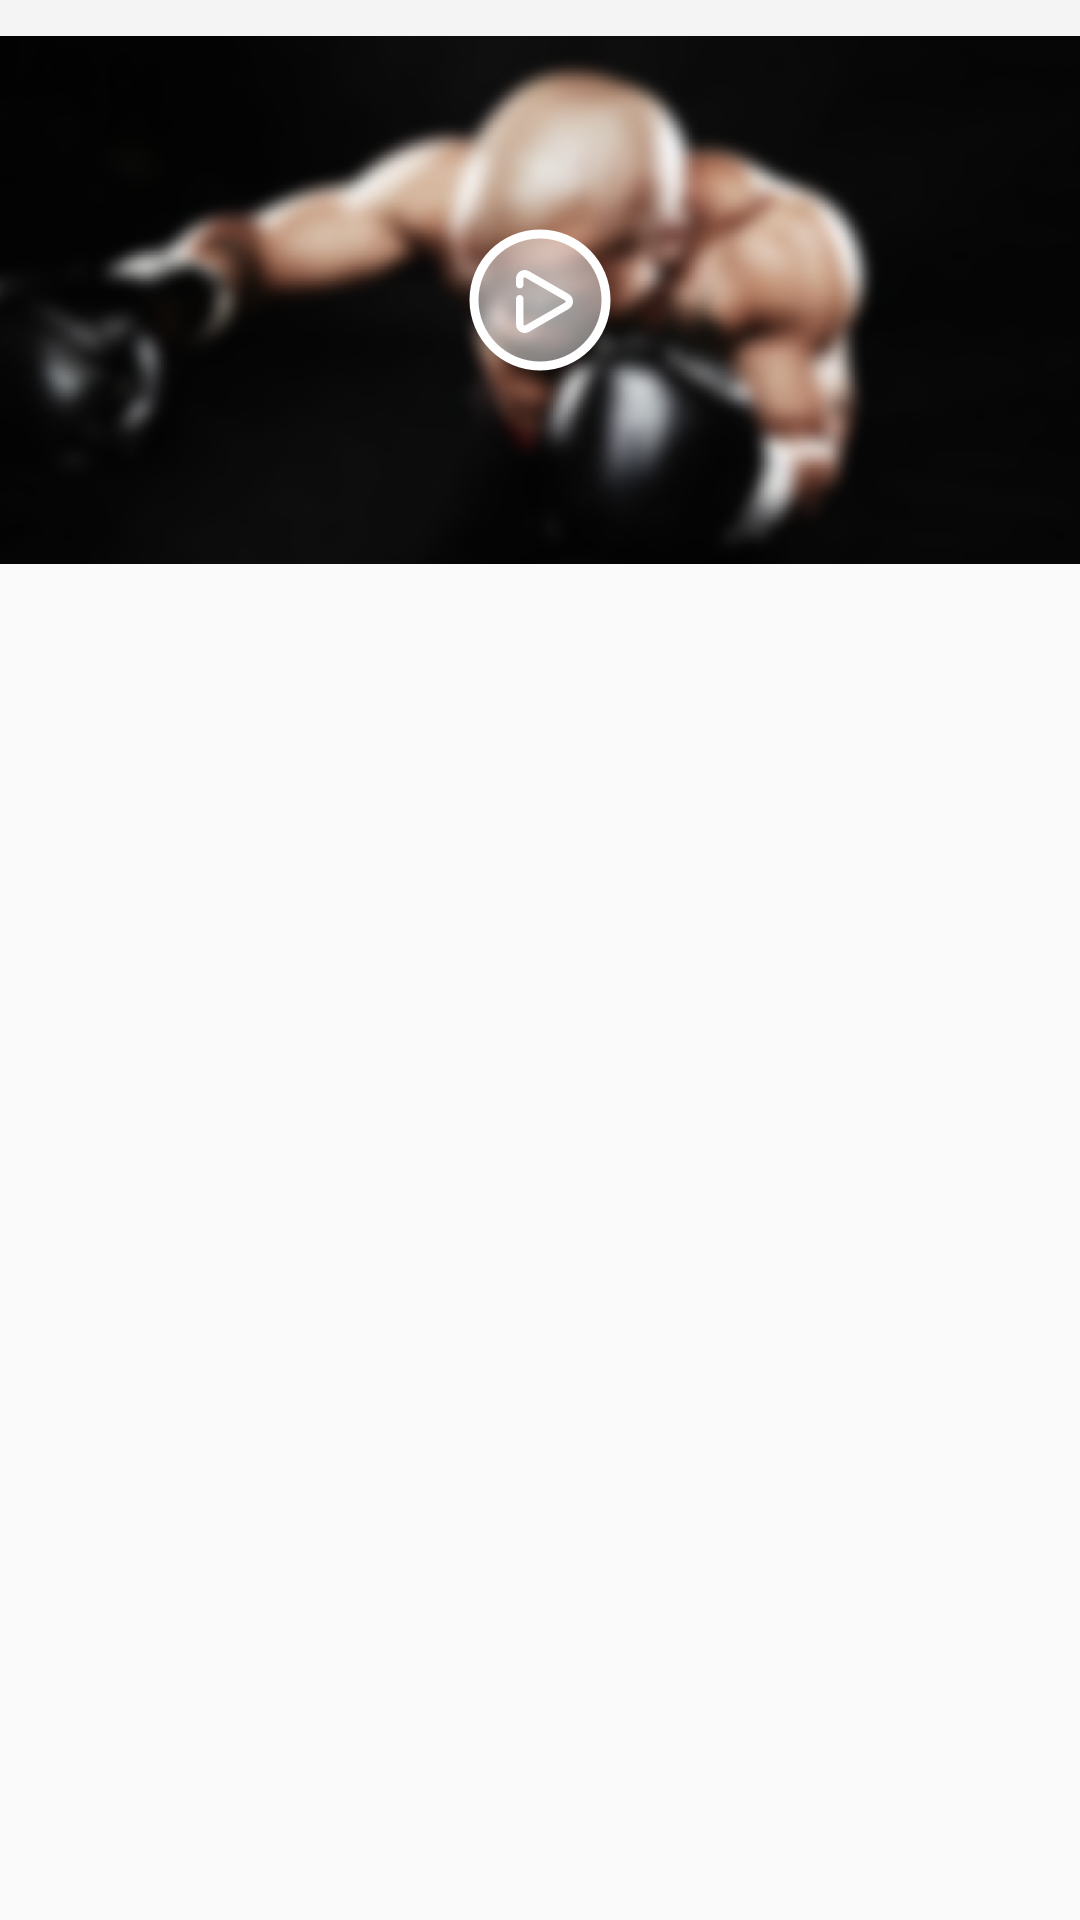

Screen size 1080×1920. Icon name, then its center in pixels as [x,y]:
bofang: [540,300]
